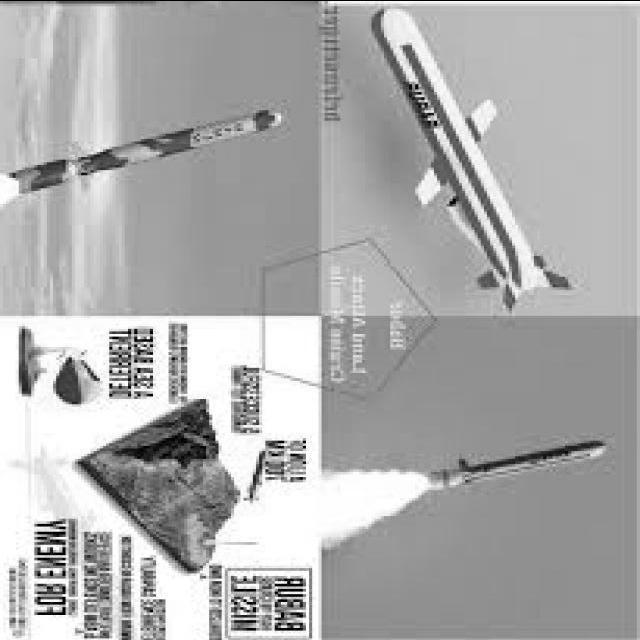Missile: (344, 0, 577, 312), (10, 105, 286, 187), (439, 437, 614, 491)
